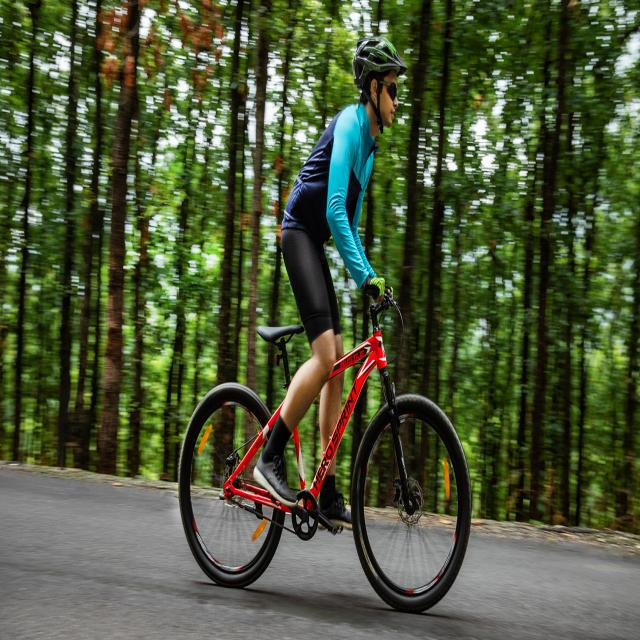bicycle: (179, 37, 471, 612)
